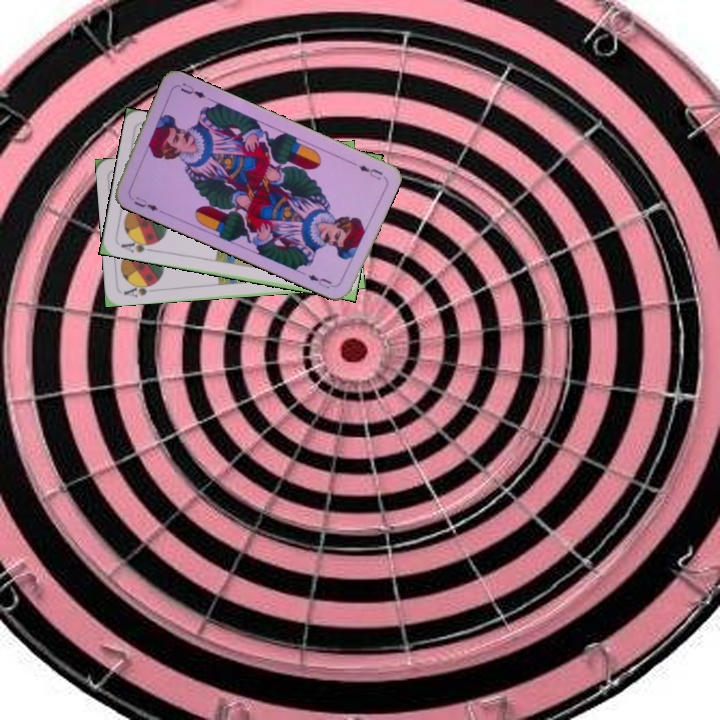EU: (126, 192, 161, 214), (355, 161, 385, 183)
SA: (117, 234, 157, 255), (120, 279, 159, 300)
